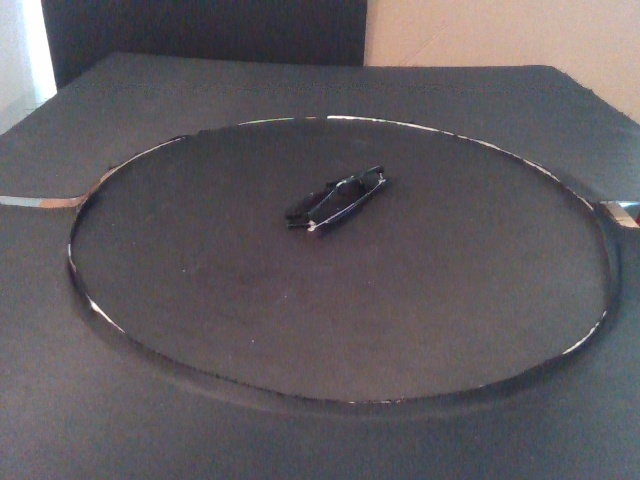glasses: (284, 163, 388, 233)
